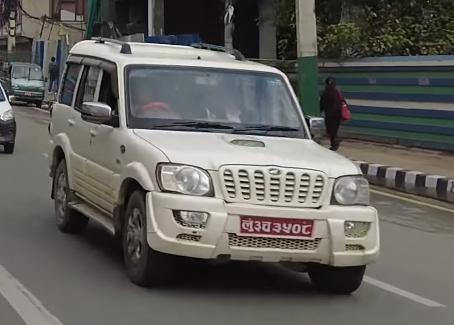SUV: (48, 31, 384, 293)
van: (0, 58, 48, 109)
